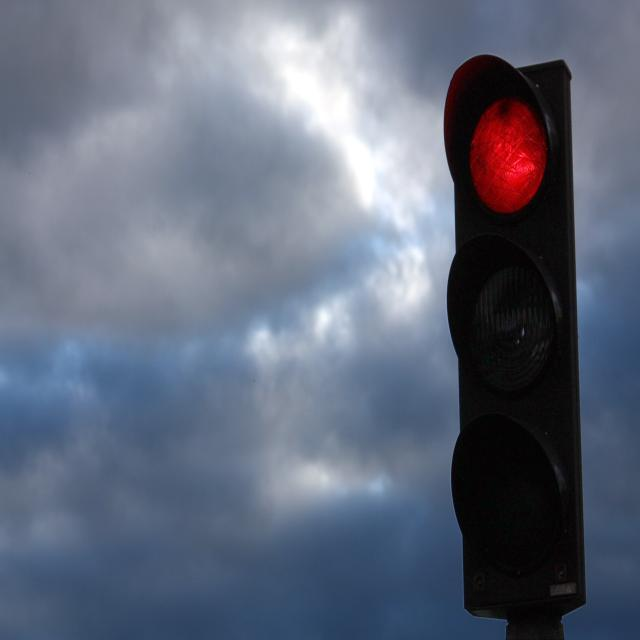red: (441, 64, 544, 210)
